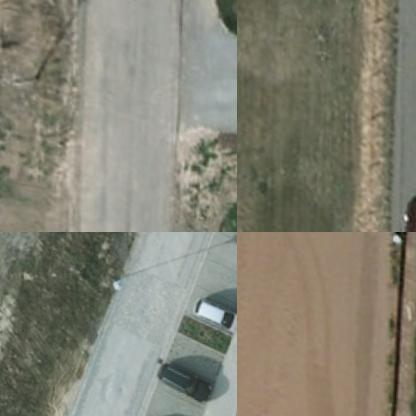car: (148, 352, 210, 396), (189, 290, 236, 330), (396, 190, 415, 231)
